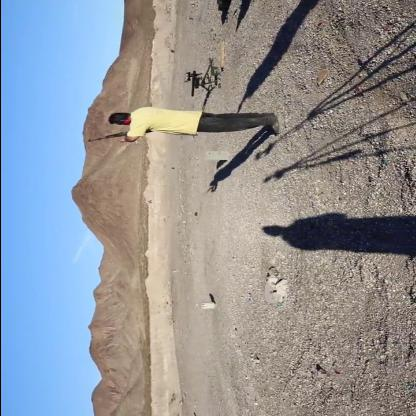long weapon: (66, 127, 158, 150), (175, 68, 218, 100)
